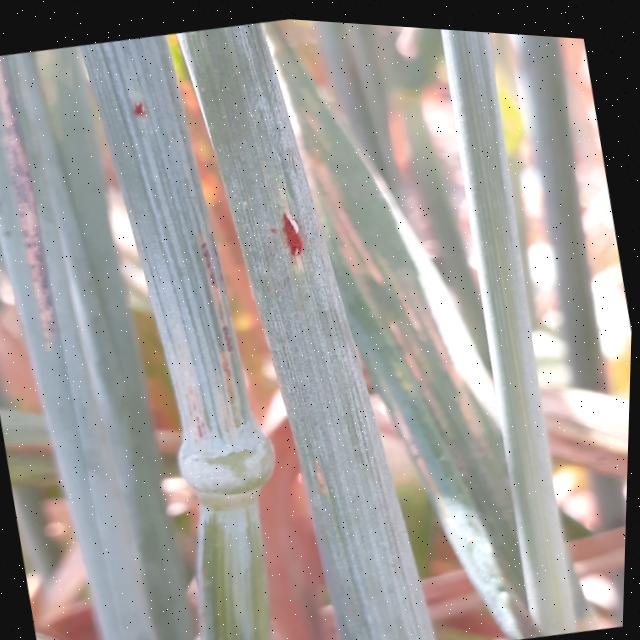black_stem_rust: (186, 10, 408, 615), (40, 26, 294, 508), (0, 43, 147, 503)
